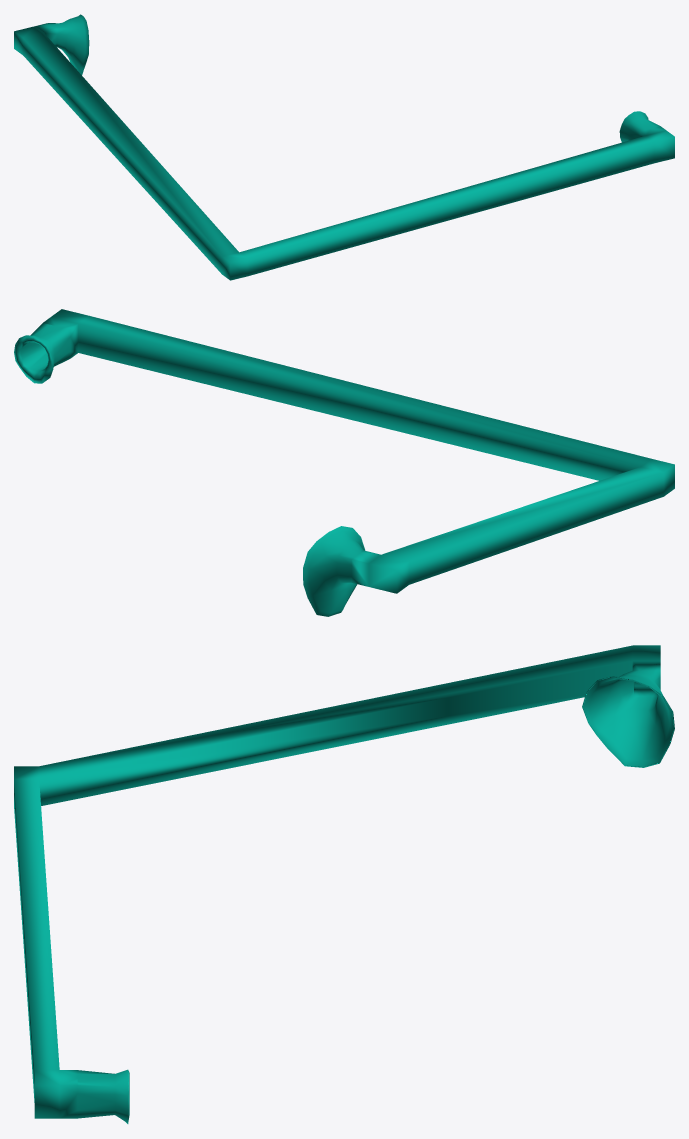
Rendered from SM_Vent_1.3.fbx.
3 renders of one model, top to bottom at view 1: azimuth 30°, elevation 25°; view 2: azimuth 150°, elevation 25°; view 3: azimuth 270°, elevation 25°, orthographic. The views are drawn at different scales.
Parts seen in each view (by area): view 1: SM_Vent_1_3; view 2: SM_Vent_1_3; view 3: SM_Vent_1_3.
Part boxes in pixels (box(x1,y1,x2,y2)): SM_Vent_1_3: box(14, 14, 674, 280); SM_Vent_1_3: box(14, 309, 674, 616); SM_Vent_1_3: box(14, 645, 674, 1123).
Bounding box in the file's own units: 3361 × 730 × 2740.
